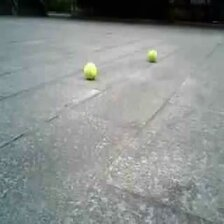tennis: (83, 62, 97, 77), (148, 49, 158, 60)
